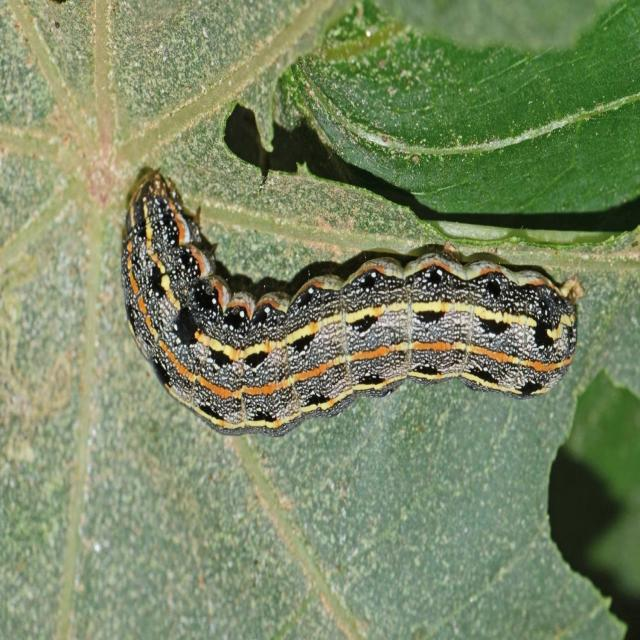armyworm: (120, 167, 584, 437)
